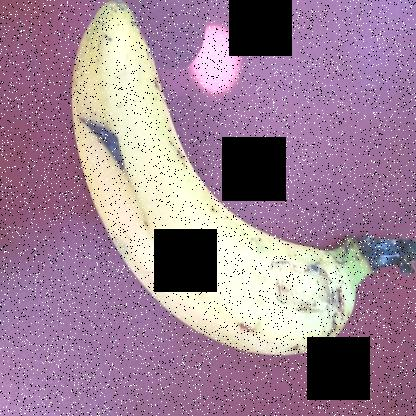ripe: (56, 6, 367, 394)
